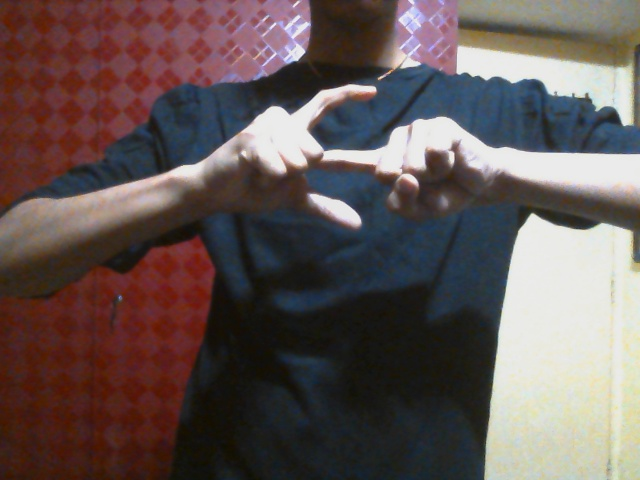E: (223, 84, 498, 238)
